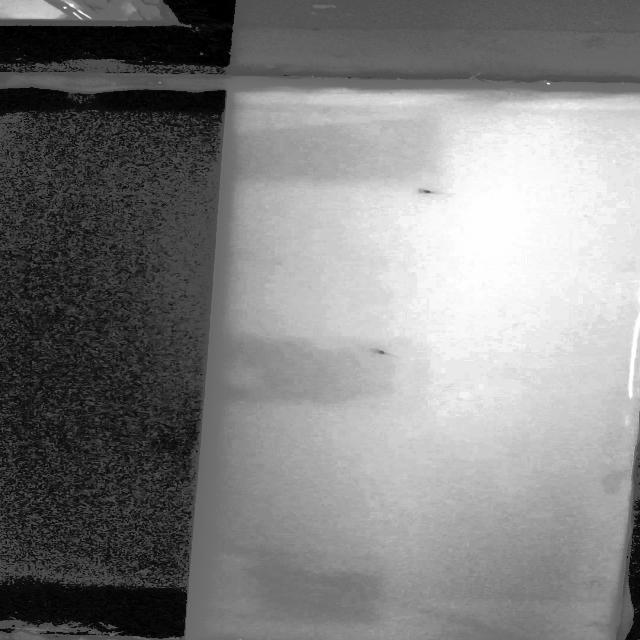shrimp: (360, 344, 399, 365), (407, 179, 441, 200)
